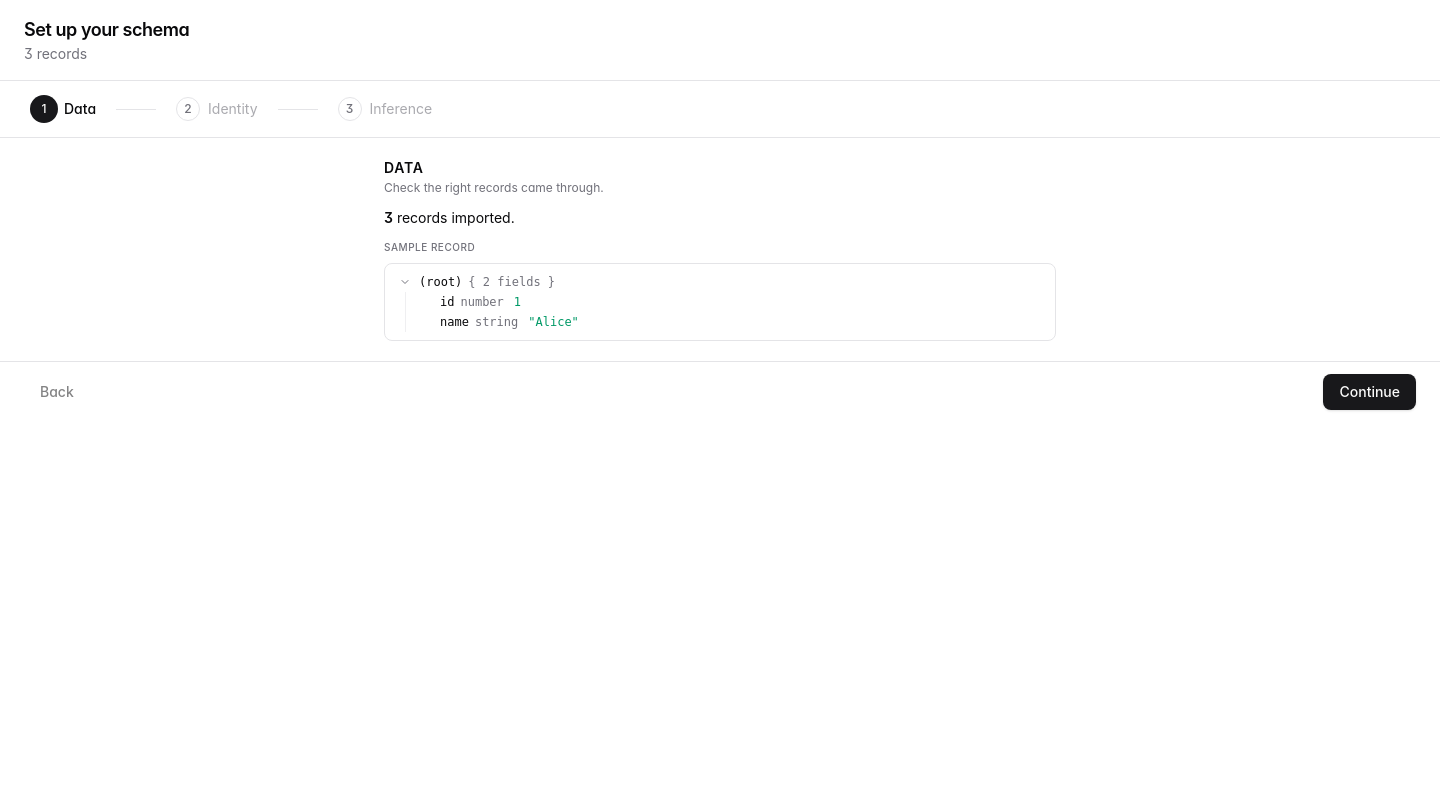
Test case: WizardHost › Z-W5: Generate infers first; a throw rolls back with no commit and an alert
Step 1. Click the button "Continue" → coordinates (1370, 392), box [1324, 374, 1416, 410]
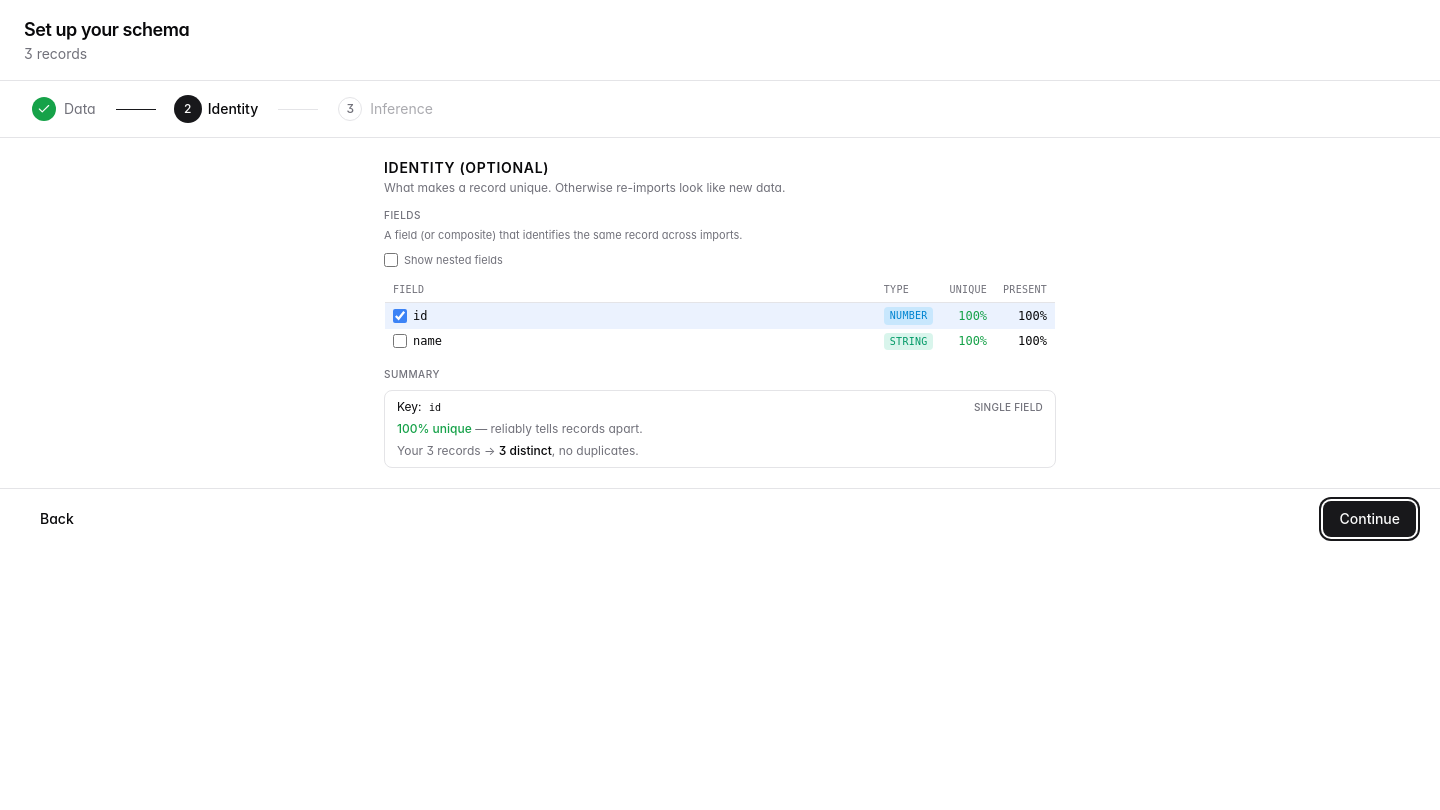
Step 2. Click the button "Continue" → coordinates (1370, 519), box [1324, 501, 1416, 537]
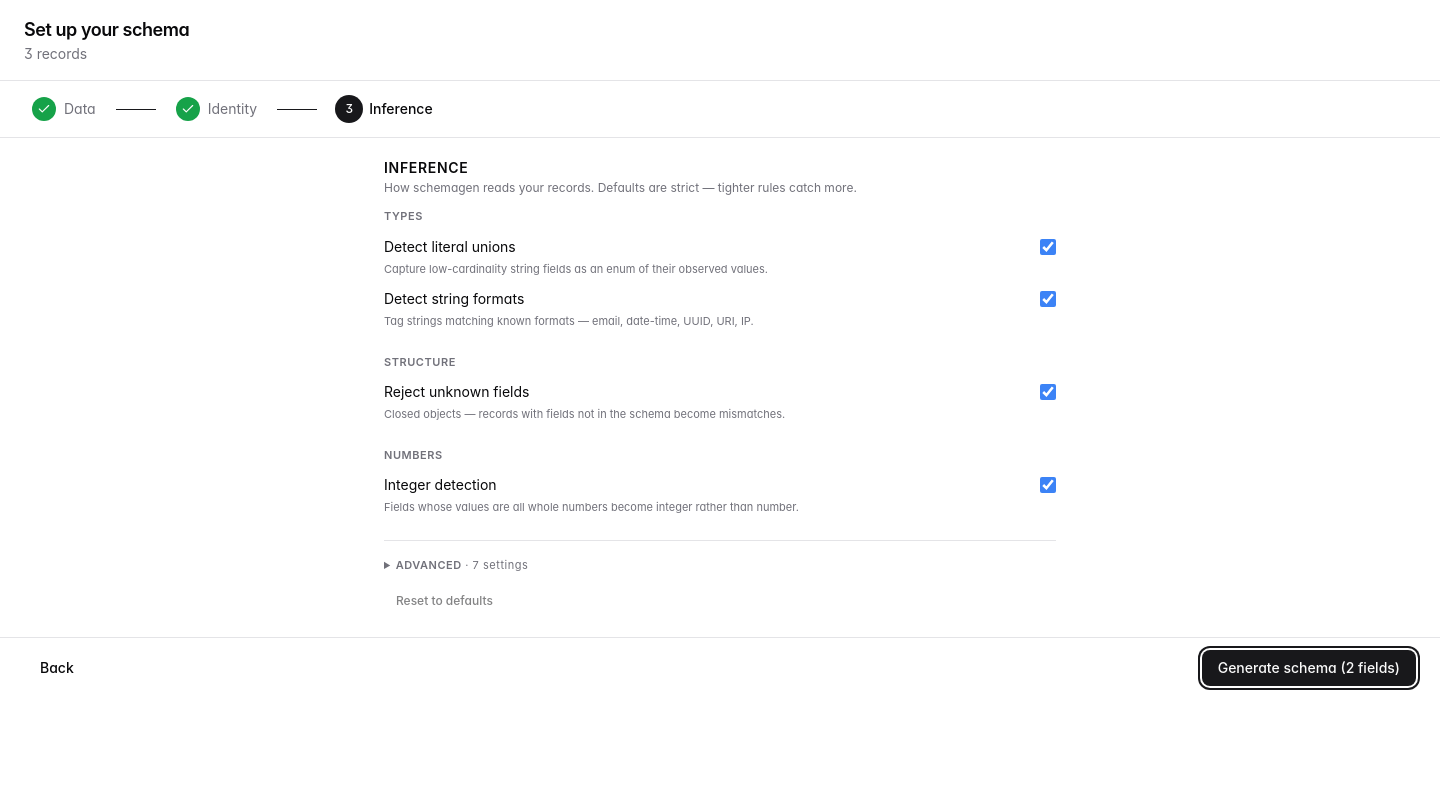
Step 3. Click the button "Generate schema (2 fields)" → coordinates (1309, 668), box [1202, 650, 1416, 686]
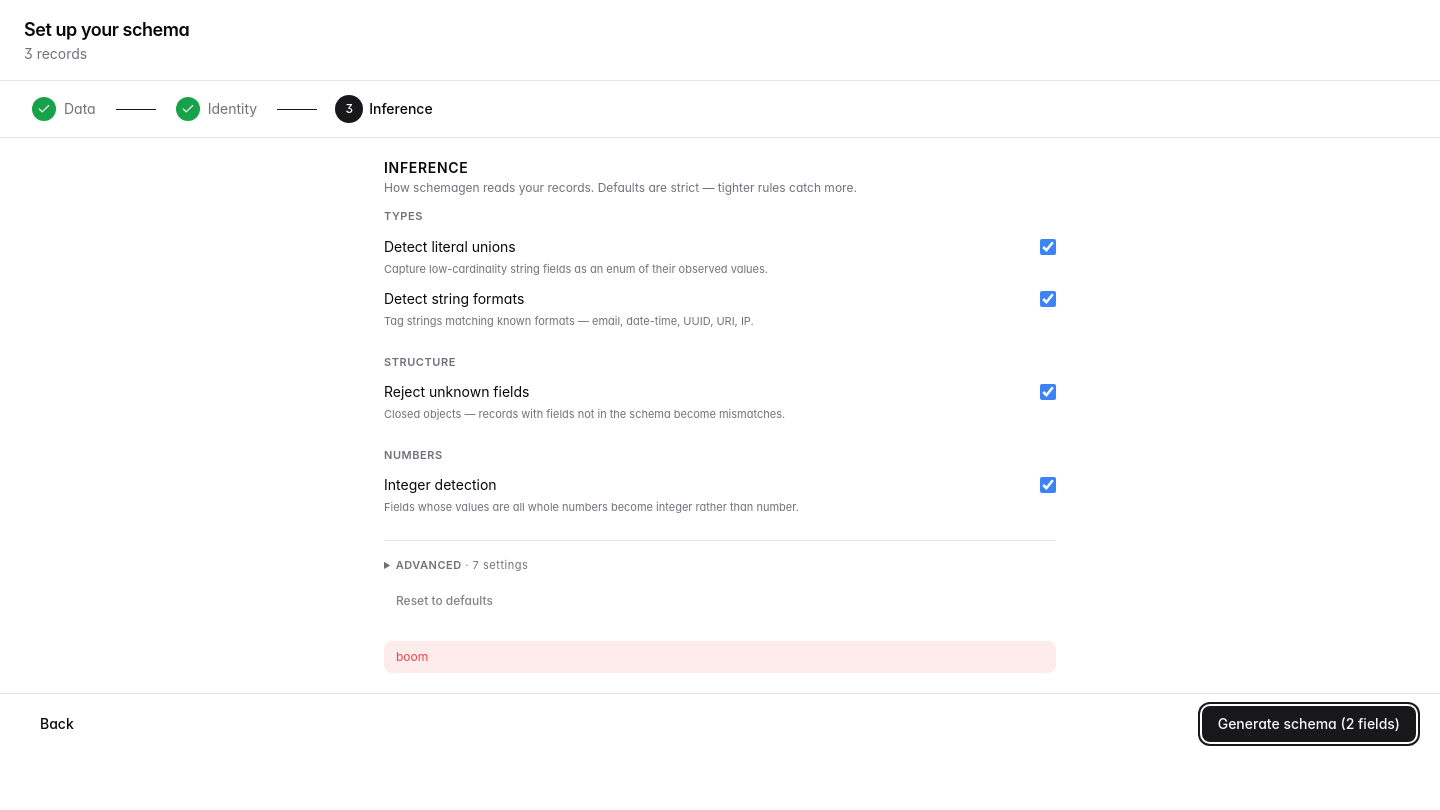
Expected: the message reads "boom", [396, 649, 428, 664]
